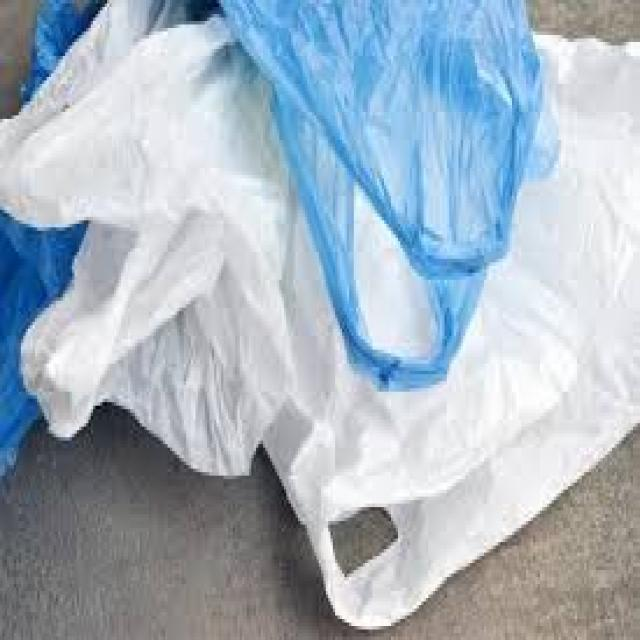Single-layer Plastic: (4, 1, 640, 631), (217, 1, 569, 396)
